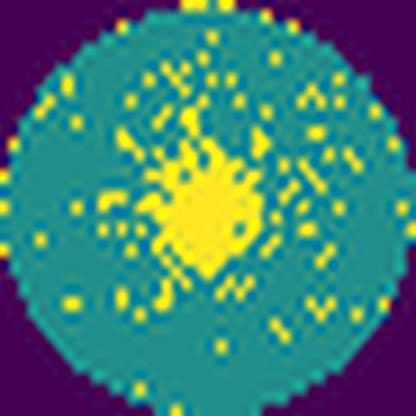Center: (141, 137, 266, 281)
